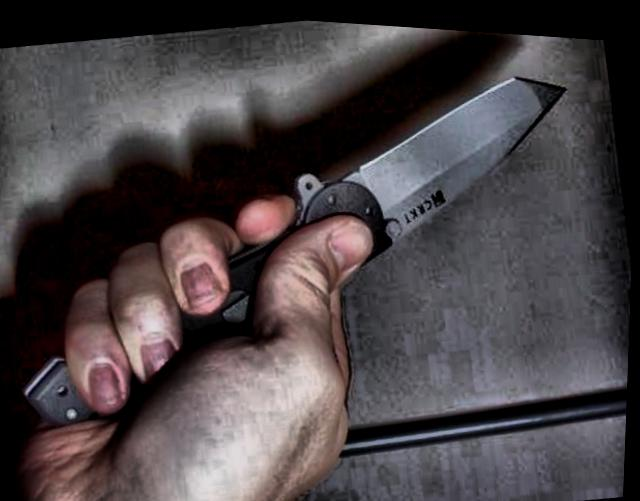knife: (85, 18, 630, 427)
